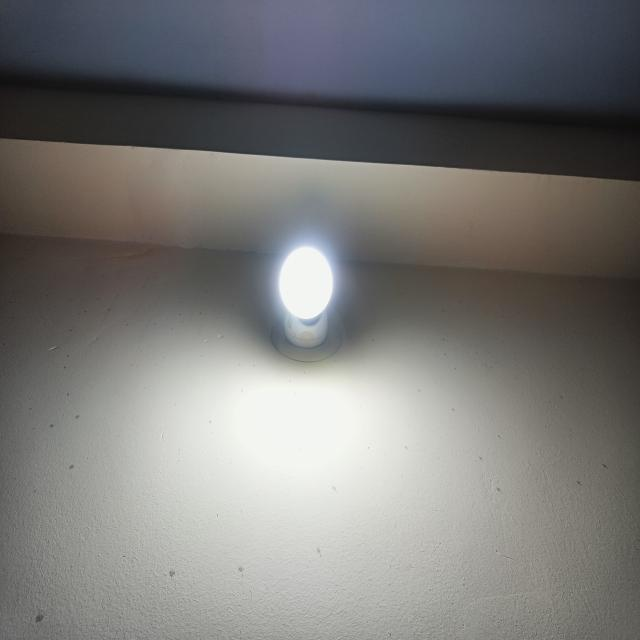bulb_on: (276, 242, 336, 324)
